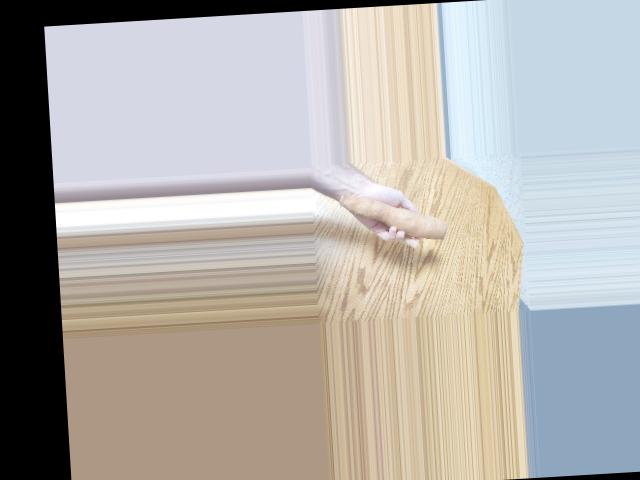sweet_potato: (335, 186, 448, 247)
